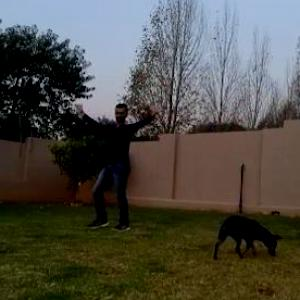takeoff: (74, 100, 190, 227)
